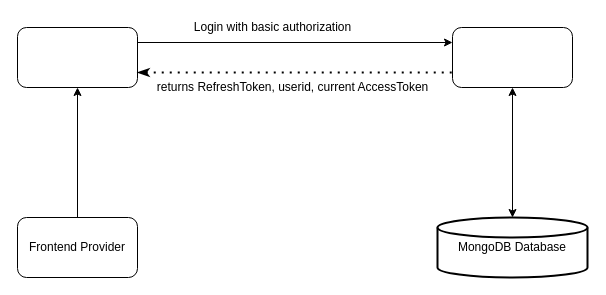
Some shapes in this 606 by 295 pixel diagram are drawn without their labels. Each missing label, with the centre of its shape:
Frontend React.js: the point at 77,57
RESTApi Spring Boot Application: the point at 512,57
